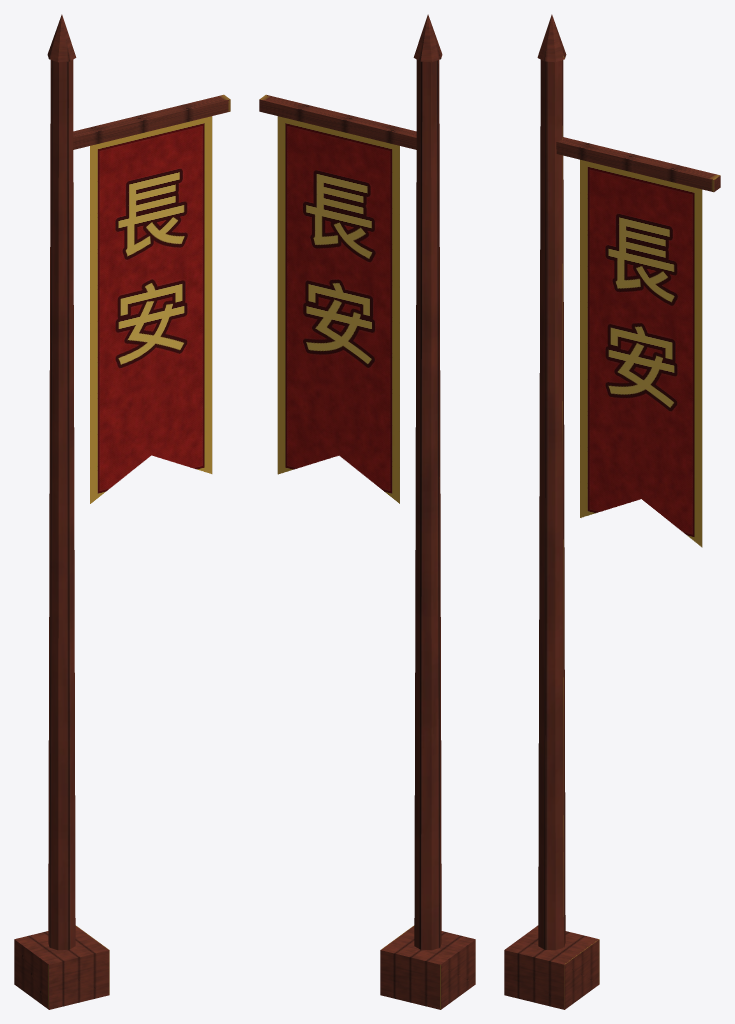
The model's file is banner@hanging240.glb.
3 renders of one model, left to right at view 1: azimuth 30°, elevation 25°; view 2: azimuth 150°, elevation 25°; view 3: azimuth 330°, elevation 25°, orthographic.
Parts seen in each view (by area): view 1: town_banner_cloth, town_banner_pole; view 2: town_banner_cloth, town_banner_pole; view 3: town_banner_cloth, town_banner_pole.
Part boxes in pixels (x1,y1,x2,y2): town_banner_cloth: [90, 116, 212, 503]; town_banner_pole: [14, 14, 230, 1009]; town_banner_cloth: [277, 116, 399, 503]; town_banner_pole: [259, 14, 475, 1009]; town_banner_cloth: [580, 159, 702, 547]; town_banner_pole: [504, 14, 720, 1009].
Size of the model in its own units: 1.36 by 6.48 by 0.42.
2 materials, 2 textured.
